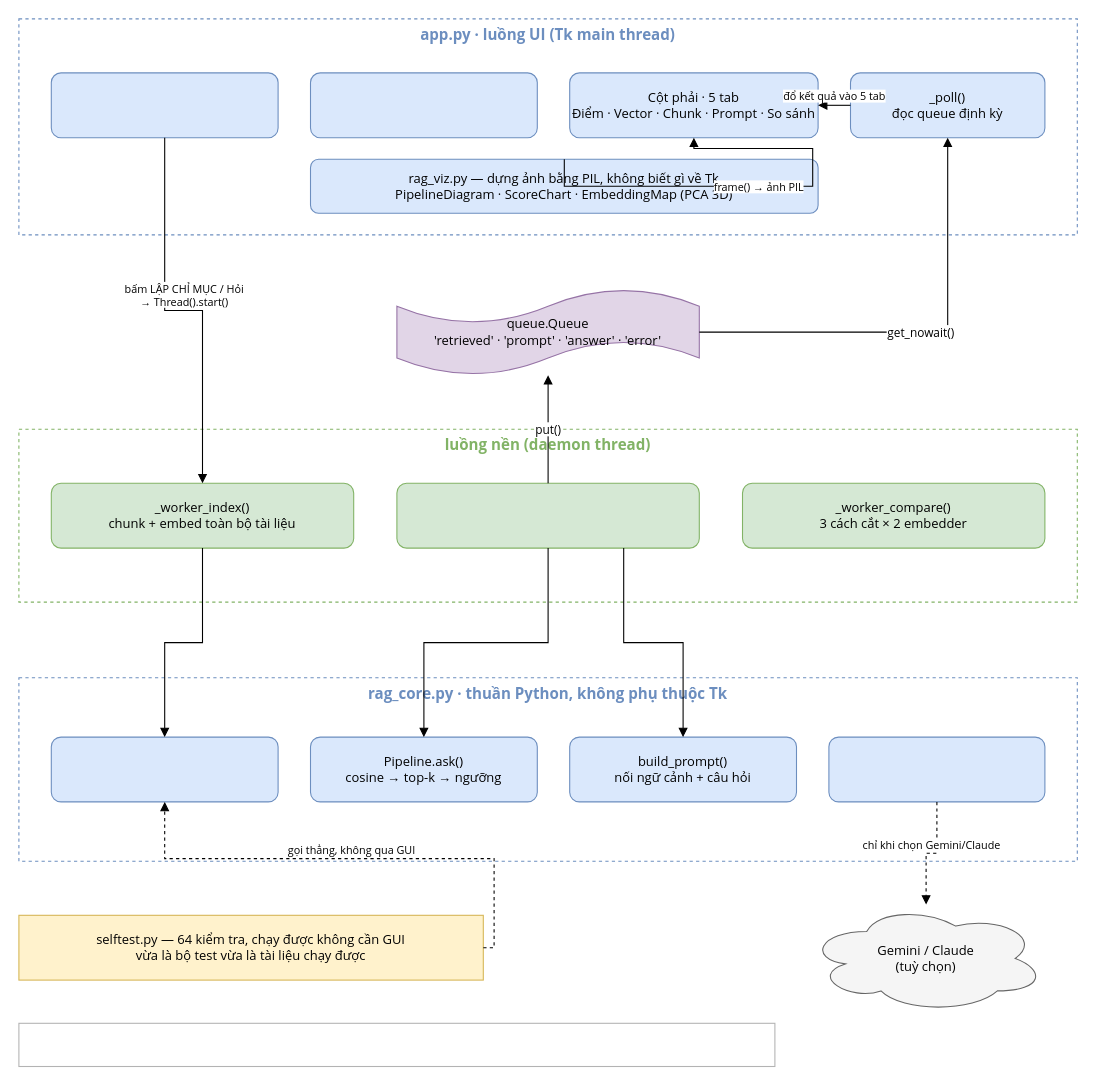
Image size: 1096x1085. Some labels were removed from this diagram. The centre of each missing label's shape, as x and y in pixels:
"_worker_ask(query, mode, key) tham số Tk đã đọc sẵn ở luồng UI" goes at [547,515].
"answer_extractive() answer_with_gemini() / _claude()" goes at [936,769].
"Chú giải ■ xử lý / giao diện ■ luồng nền ■ hàng đợi ■ bên thứ 3" goes at [396,1044].
"Cột giữa khung chat" goes at [423,105].
"Cột trái tham số bước 1-5" goes at [164,105].
"Pipeline.index() CHUNKERS · EMBEDDERS" goes at [164,769].
